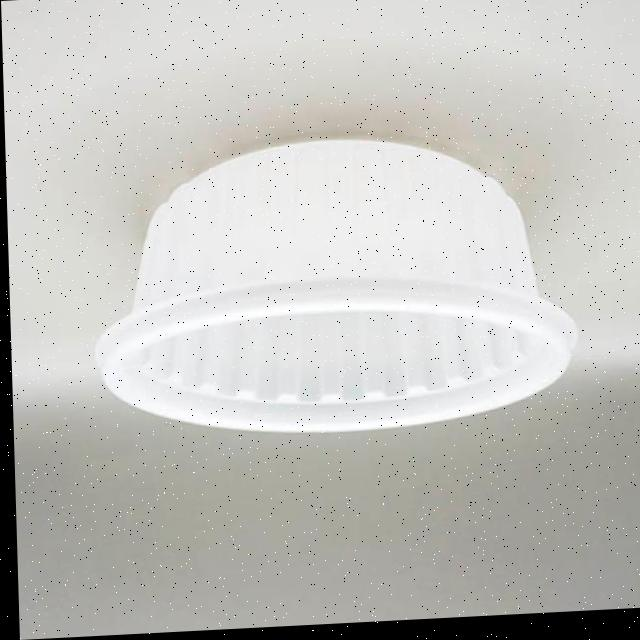disposable: (47, 112, 592, 455)
